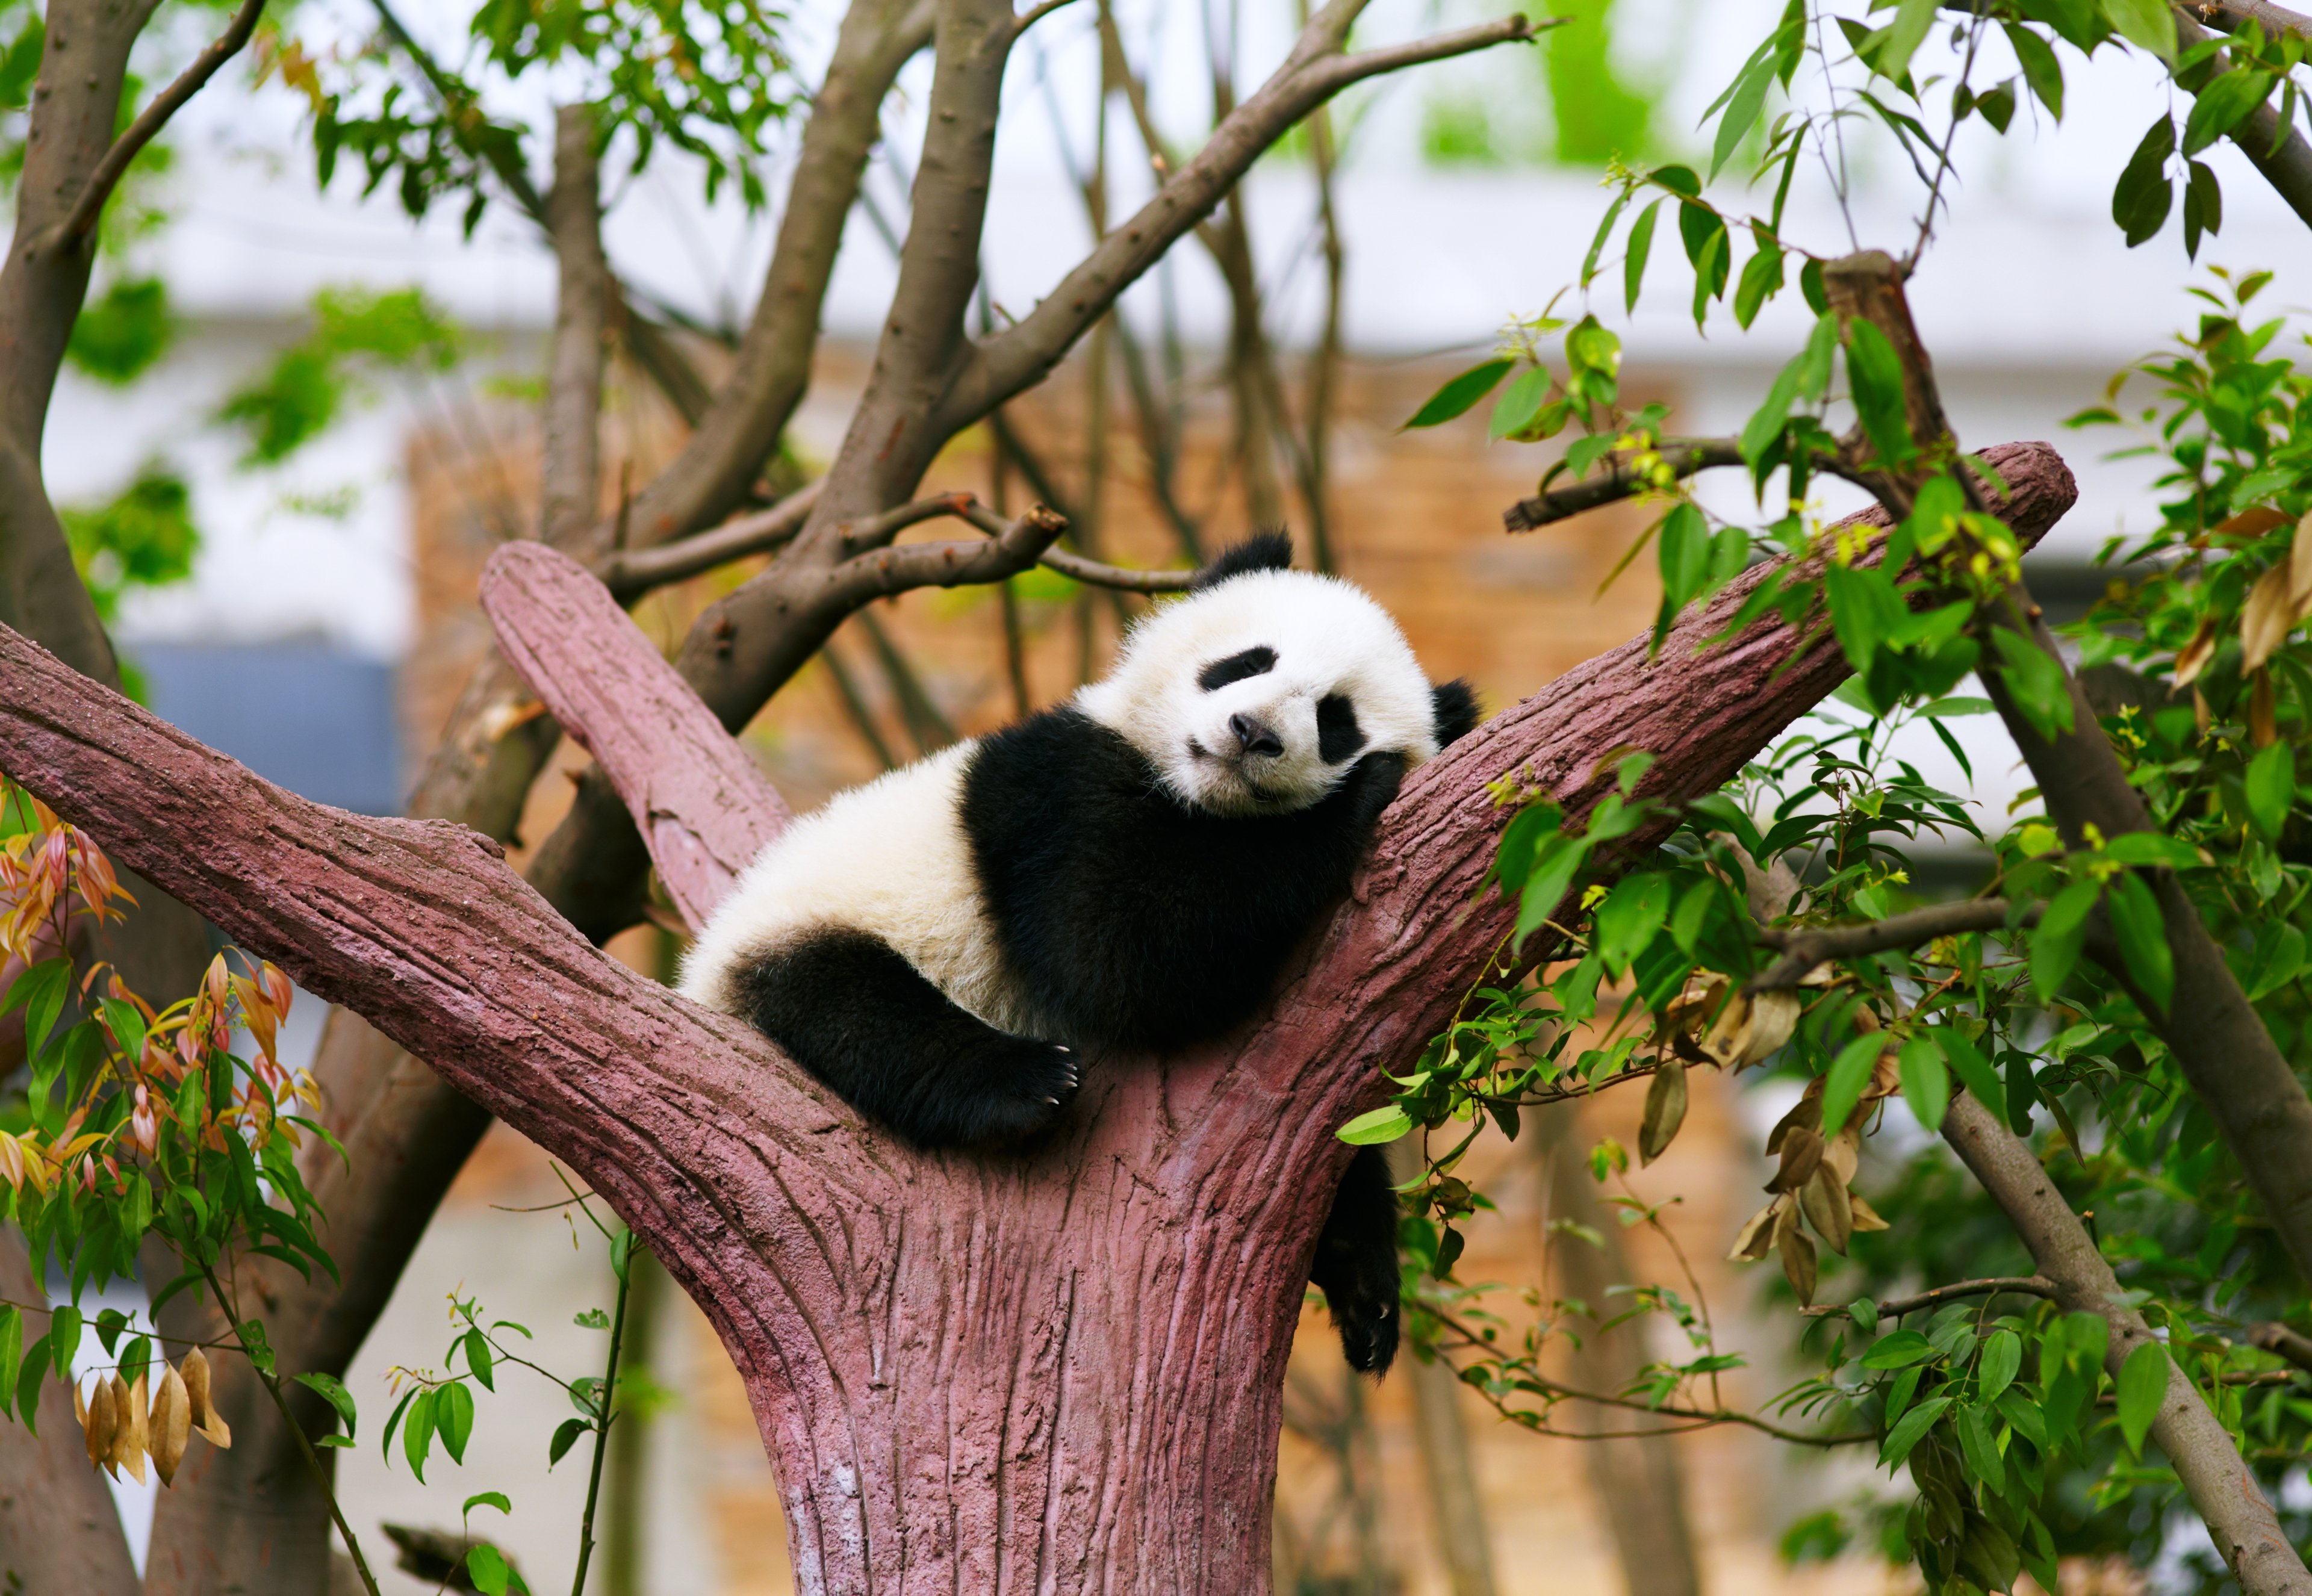panda: (615, 485, 1653, 1250)
